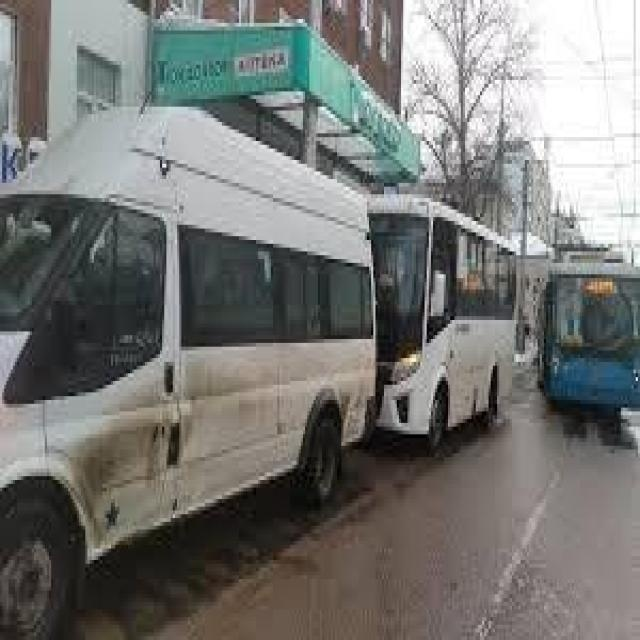Bus: (364, 187, 522, 472), (539, 243, 640, 434)
